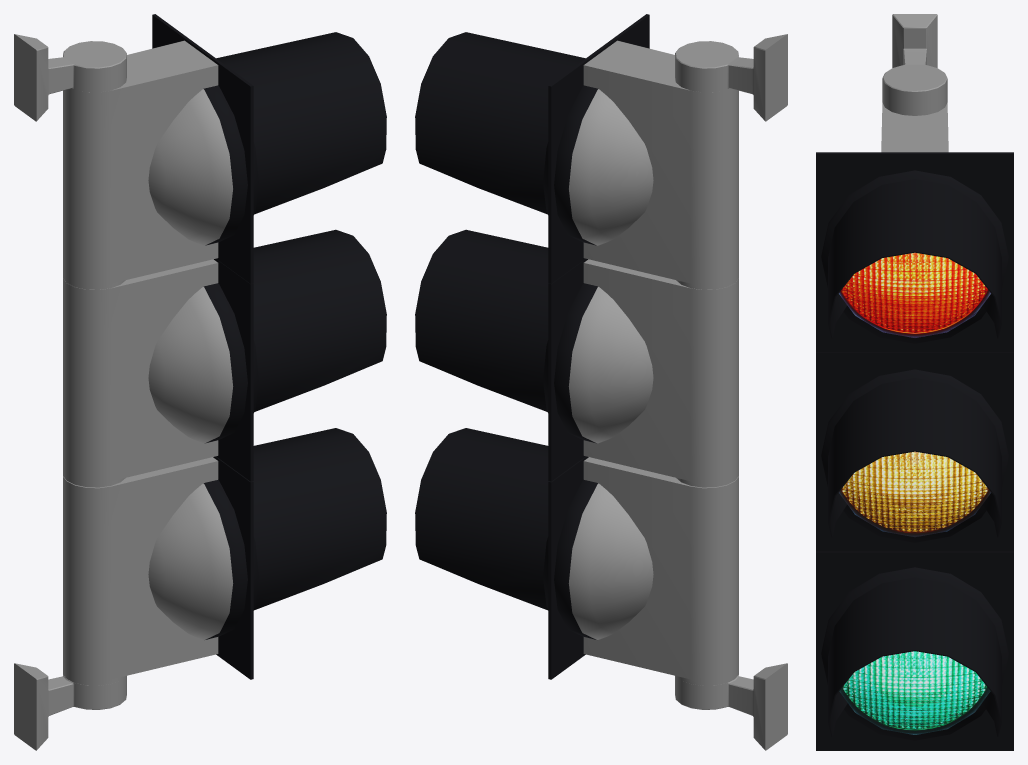
File: Ampel_Standard_Mast.glb
3 views of the same model, side by side, from view 1: azimuth 30°, elevation 25°; view 2: azimuth 150°, elevation 25°; view 3: azimuth 270°, elevation 25° (orthographic).
Parts seen in each view (by area): view 1: Cube.004, Cube.005, Cube.003, Sonnenblende.002, Sonnenblende, Sonnenblende.001, BezierCurve.002, BezierCurve.001, BezierCurve.003, Masthalterung, Blende.002, Masthalterung.001 (+2 smaller); view 2: Cube.004, Cube.005, Cube.003, Sonnenblende.002, Sonnenblende, Sonnenblende.001, BezierCurve.002, BezierCurve.001, BezierCurve.003, Masthalterung, Blende.002, Masthalterung.001 (+2 smaller); view 3: Blende.002, Blende.001, Blende, Sonnenblende, Sonnenblende.002, Sonnenblende.001, BezierCurve.001, BezierCurve.003, BezierCurve.002, Masthalterung, Cube.004.
Part boxes in pixels (left/top/right/bottom): Cube.004: left=63, top=40, right=218, bottom=289; Cube.005: left=63, top=457, right=218, bottom=685; Cube.003: left=63, top=259, right=218, bottom=487; Sonnenblende.002: left=216, top=32, right=386, bottom=214; Sonnenblende: left=253, top=428, right=386, bottom=610; Sonnenblende.001: left=253, top=229, right=386, bottom=411; BezierCurve.002: left=148, top=283, right=258, bottom=443; BezierCurve.001: left=148, top=480, right=258, bottom=640; BezierCurve.003: left=148, top=85, right=258, bottom=245; Masthalterung: left=14, top=34, right=126, bottom=121; Blende.002: left=152, top=14, right=253, bottom=283; Masthalterung.001: left=14, top=663, right=126, bottom=750; Cube.004: left=583, top=40, right=738, bottom=289; Cube.005: left=583, top=457, right=738, bottom=685; Cube.003: left=583, top=259, right=738, bottom=487; Sonnenblende.002: left=415, top=32, right=585, bottom=214; Sonnenblende: left=415, top=428, right=548, bottom=610; Sonnenblende.001: left=415, top=229, right=548, bottom=411; BezierCurve.002: left=543, top=283, right=653, bottom=443; BezierCurve.001: left=543, top=480, right=653, bottom=640; BezierCurve.003: left=543, top=85, right=653, bottom=245; Masthalterung: left=675, top=34, right=787, bottom=121; Blende.002: left=548, top=14, right=649, bottom=283; Masthalterung.001: left=675, top=663, right=787, bottom=750; Blende.002: left=816, top=152, right=1013, bottom=352; Blende.001: left=816, top=352, right=1013, bottom=551; Blende: left=816, top=551, right=1013, bottom=750; Sonnenblende: left=828, top=577, right=1001, bottom=736; Sonnenblende.002: left=828, top=179, right=1001, bottom=338; Sonnenblende.001: left=828, top=378, right=1001, bottom=537; BezierCurve.001: left=821, top=567, right=1008, bottom=740; BezierCurve.003: left=821, top=170, right=1008, bottom=343; BezierCurve.002: left=821, top=369, right=1008, bottom=542; Masthalterung: left=882, top=14, right=947, bottom=115; Cube.004: left=881, top=102, right=948, bottom=152.
Bounding box in the file's own units: 0.4823 × 0.9853 × 0.2502.
5 materials, 5 textured.
